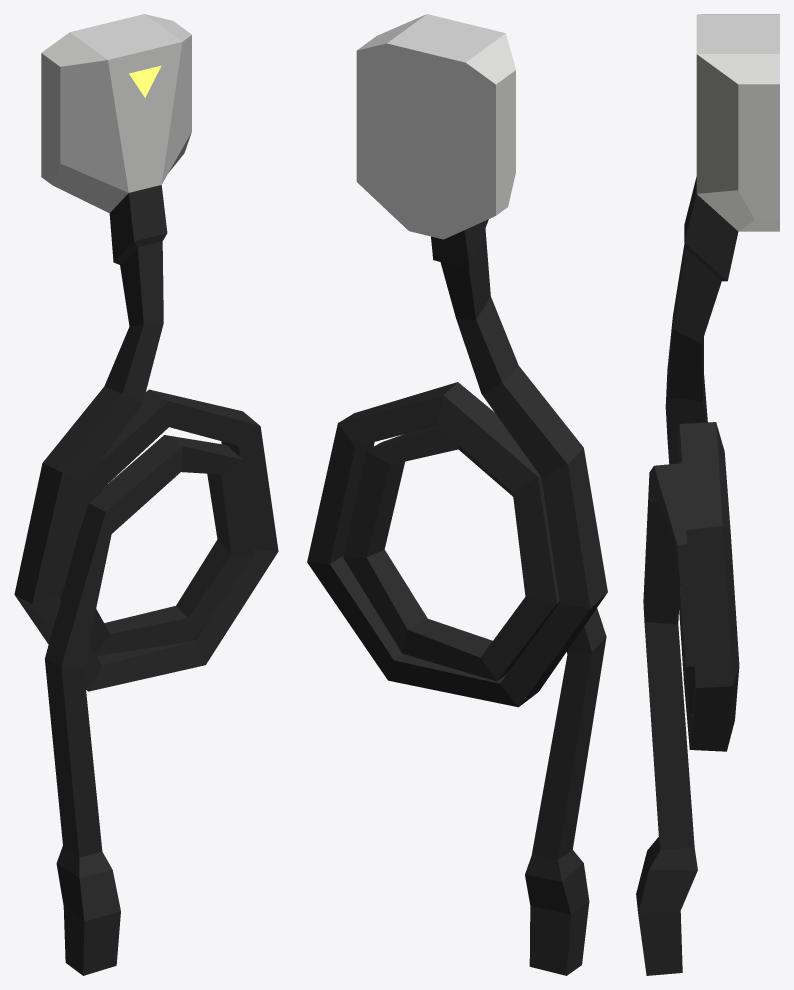
The model's file is wallbox-hose.glb.
3 views of the same model, side by side, from view 1: azimuth 30°, elevation 25°; view 2: azimuth 150°, elevation 25°; view 3: azimuth 270°, elevation 25° (orthographic). The views are drawn at different scales.
Parts seen in each view (by area): view 1: wallbox-hose; view 2: wallbox-hose; view 3: wallbox-hose.
Part boxes in pixels (x1=…): wallbox-hose: x1=14, y1=14, x2=278, y2=975; wallbox-hose: x1=307, y1=14, x2=607, y2=975; wallbox-hose: x1=636, y1=14, x2=779, y2=975.
Bounding box in the file's own units: 0.3921 × 1.29 × 0.1727.
1 material, 1 textured.
